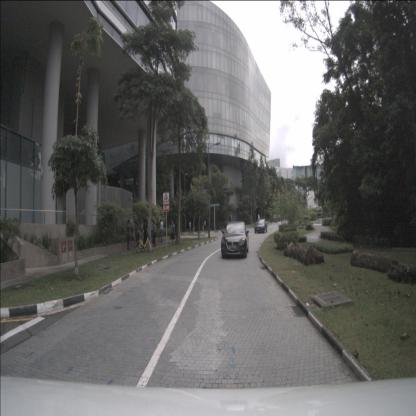human-pedestrian-adult: (170, 219, 176, 246), (126, 219, 131, 251), (143, 220, 148, 247), (150, 218, 155, 244), (134, 221, 138, 250), (152, 221, 156, 248), (160, 219, 164, 244), (174, 219, 178, 244), (188, 221, 192, 232), (204, 219, 206, 232), (202, 220, 204, 232)
vehicle-bicycle: (136, 234, 154, 252)
vehicle-car: (221, 221, 249, 258), (255, 218, 267, 233), (270, 215, 278, 222)
